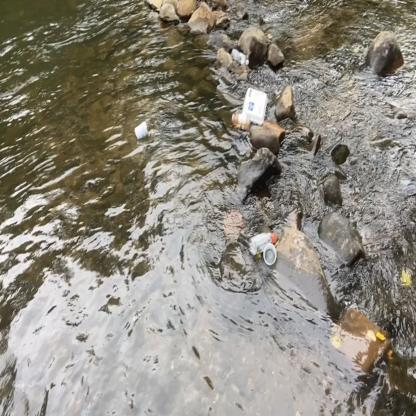trash: (241, 84, 270, 129), (248, 229, 278, 259), (230, 110, 253, 132), (262, 239, 278, 266), (134, 119, 151, 143)
